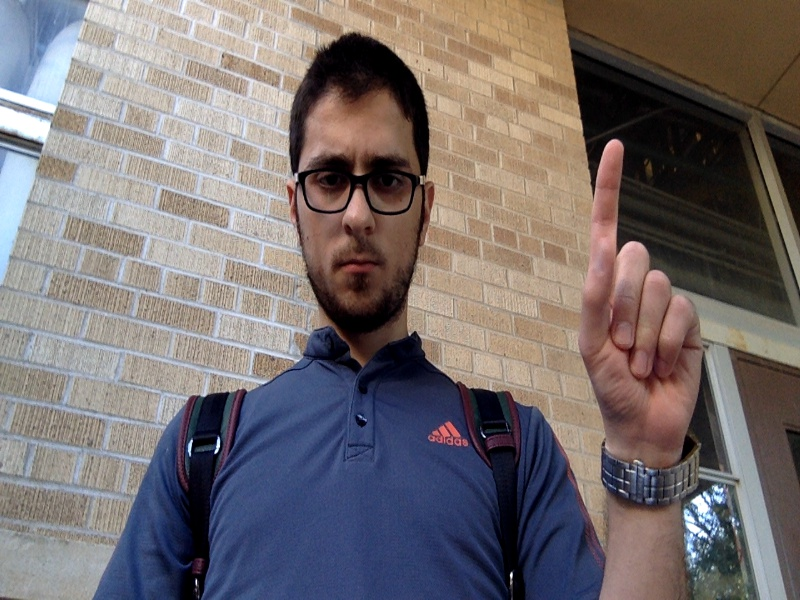1-hand: (584, 137, 701, 452)
